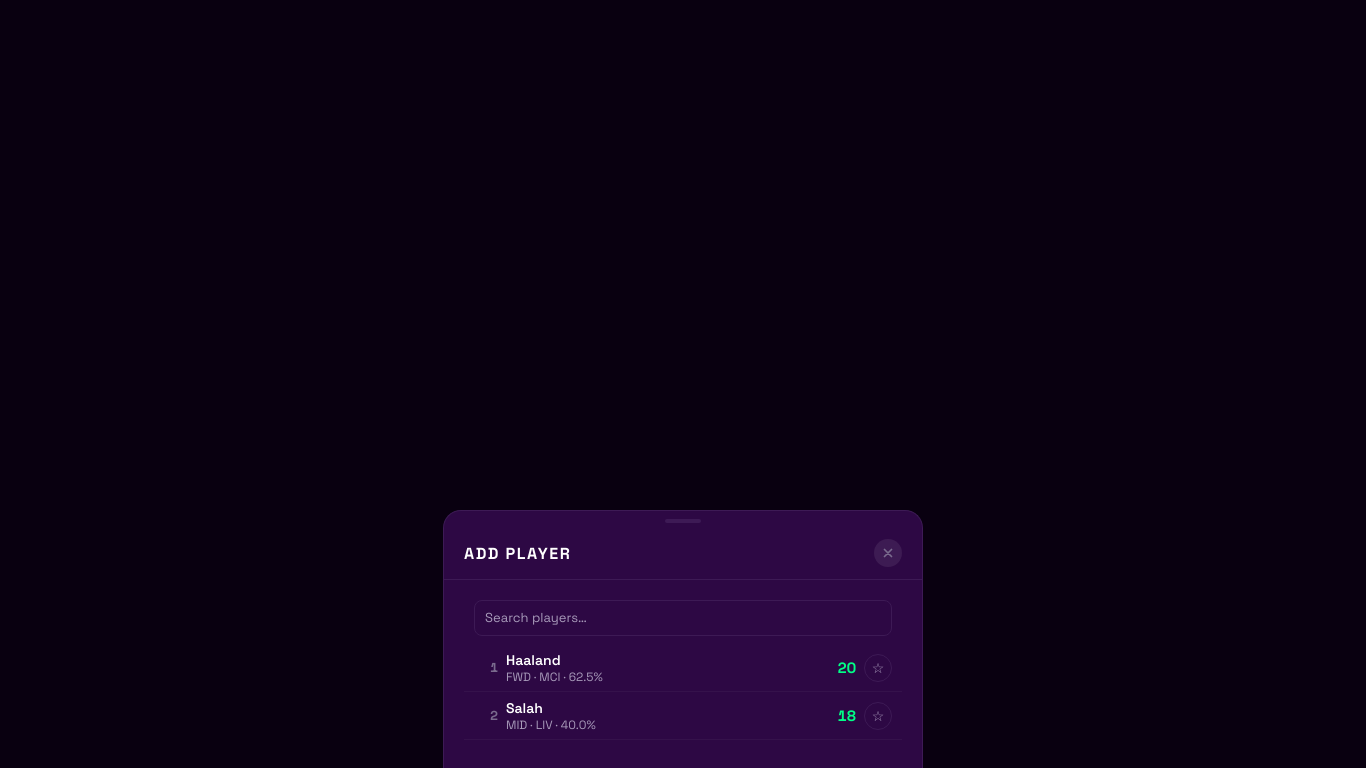
AddPlayerSheet › shows "no players found" when search has no results
Type "zzz" into the search field at (683, 618), box [474,600,892,636]
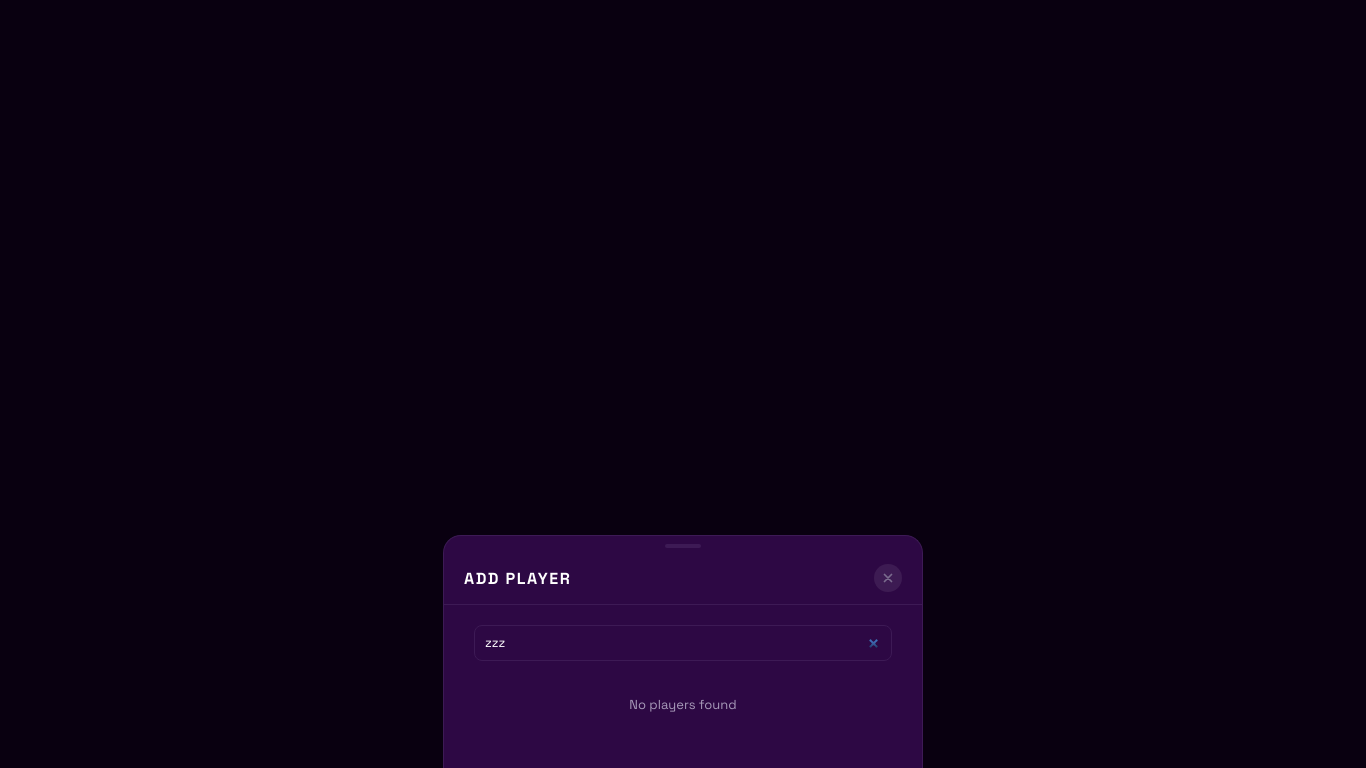
Expected: the text "No players found" is shown, [629,696,737,713]
